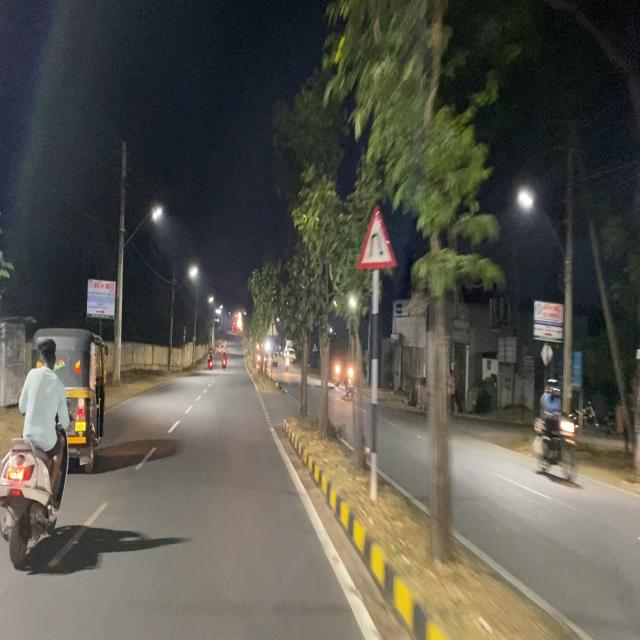bien_cam: (357, 203, 398, 271)
